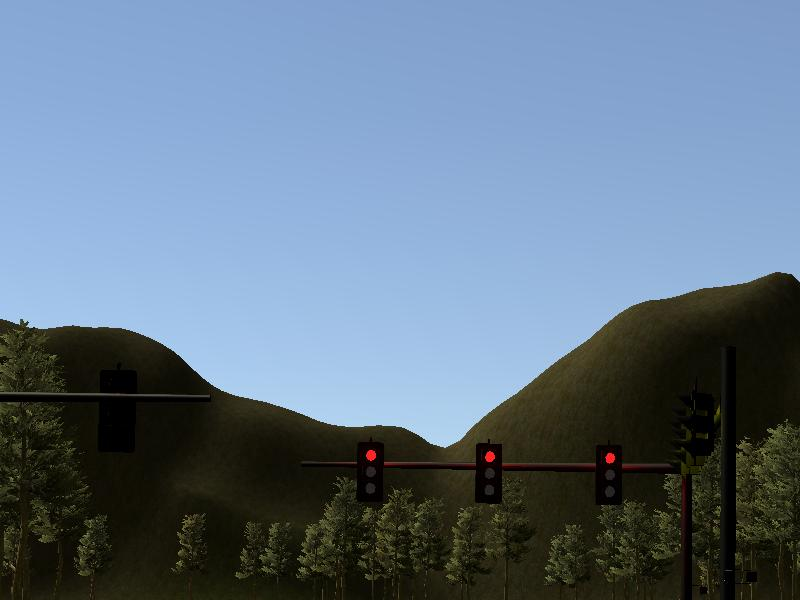Red: (355, 439, 386, 501), (476, 443, 501, 504), (594, 448, 621, 504)
